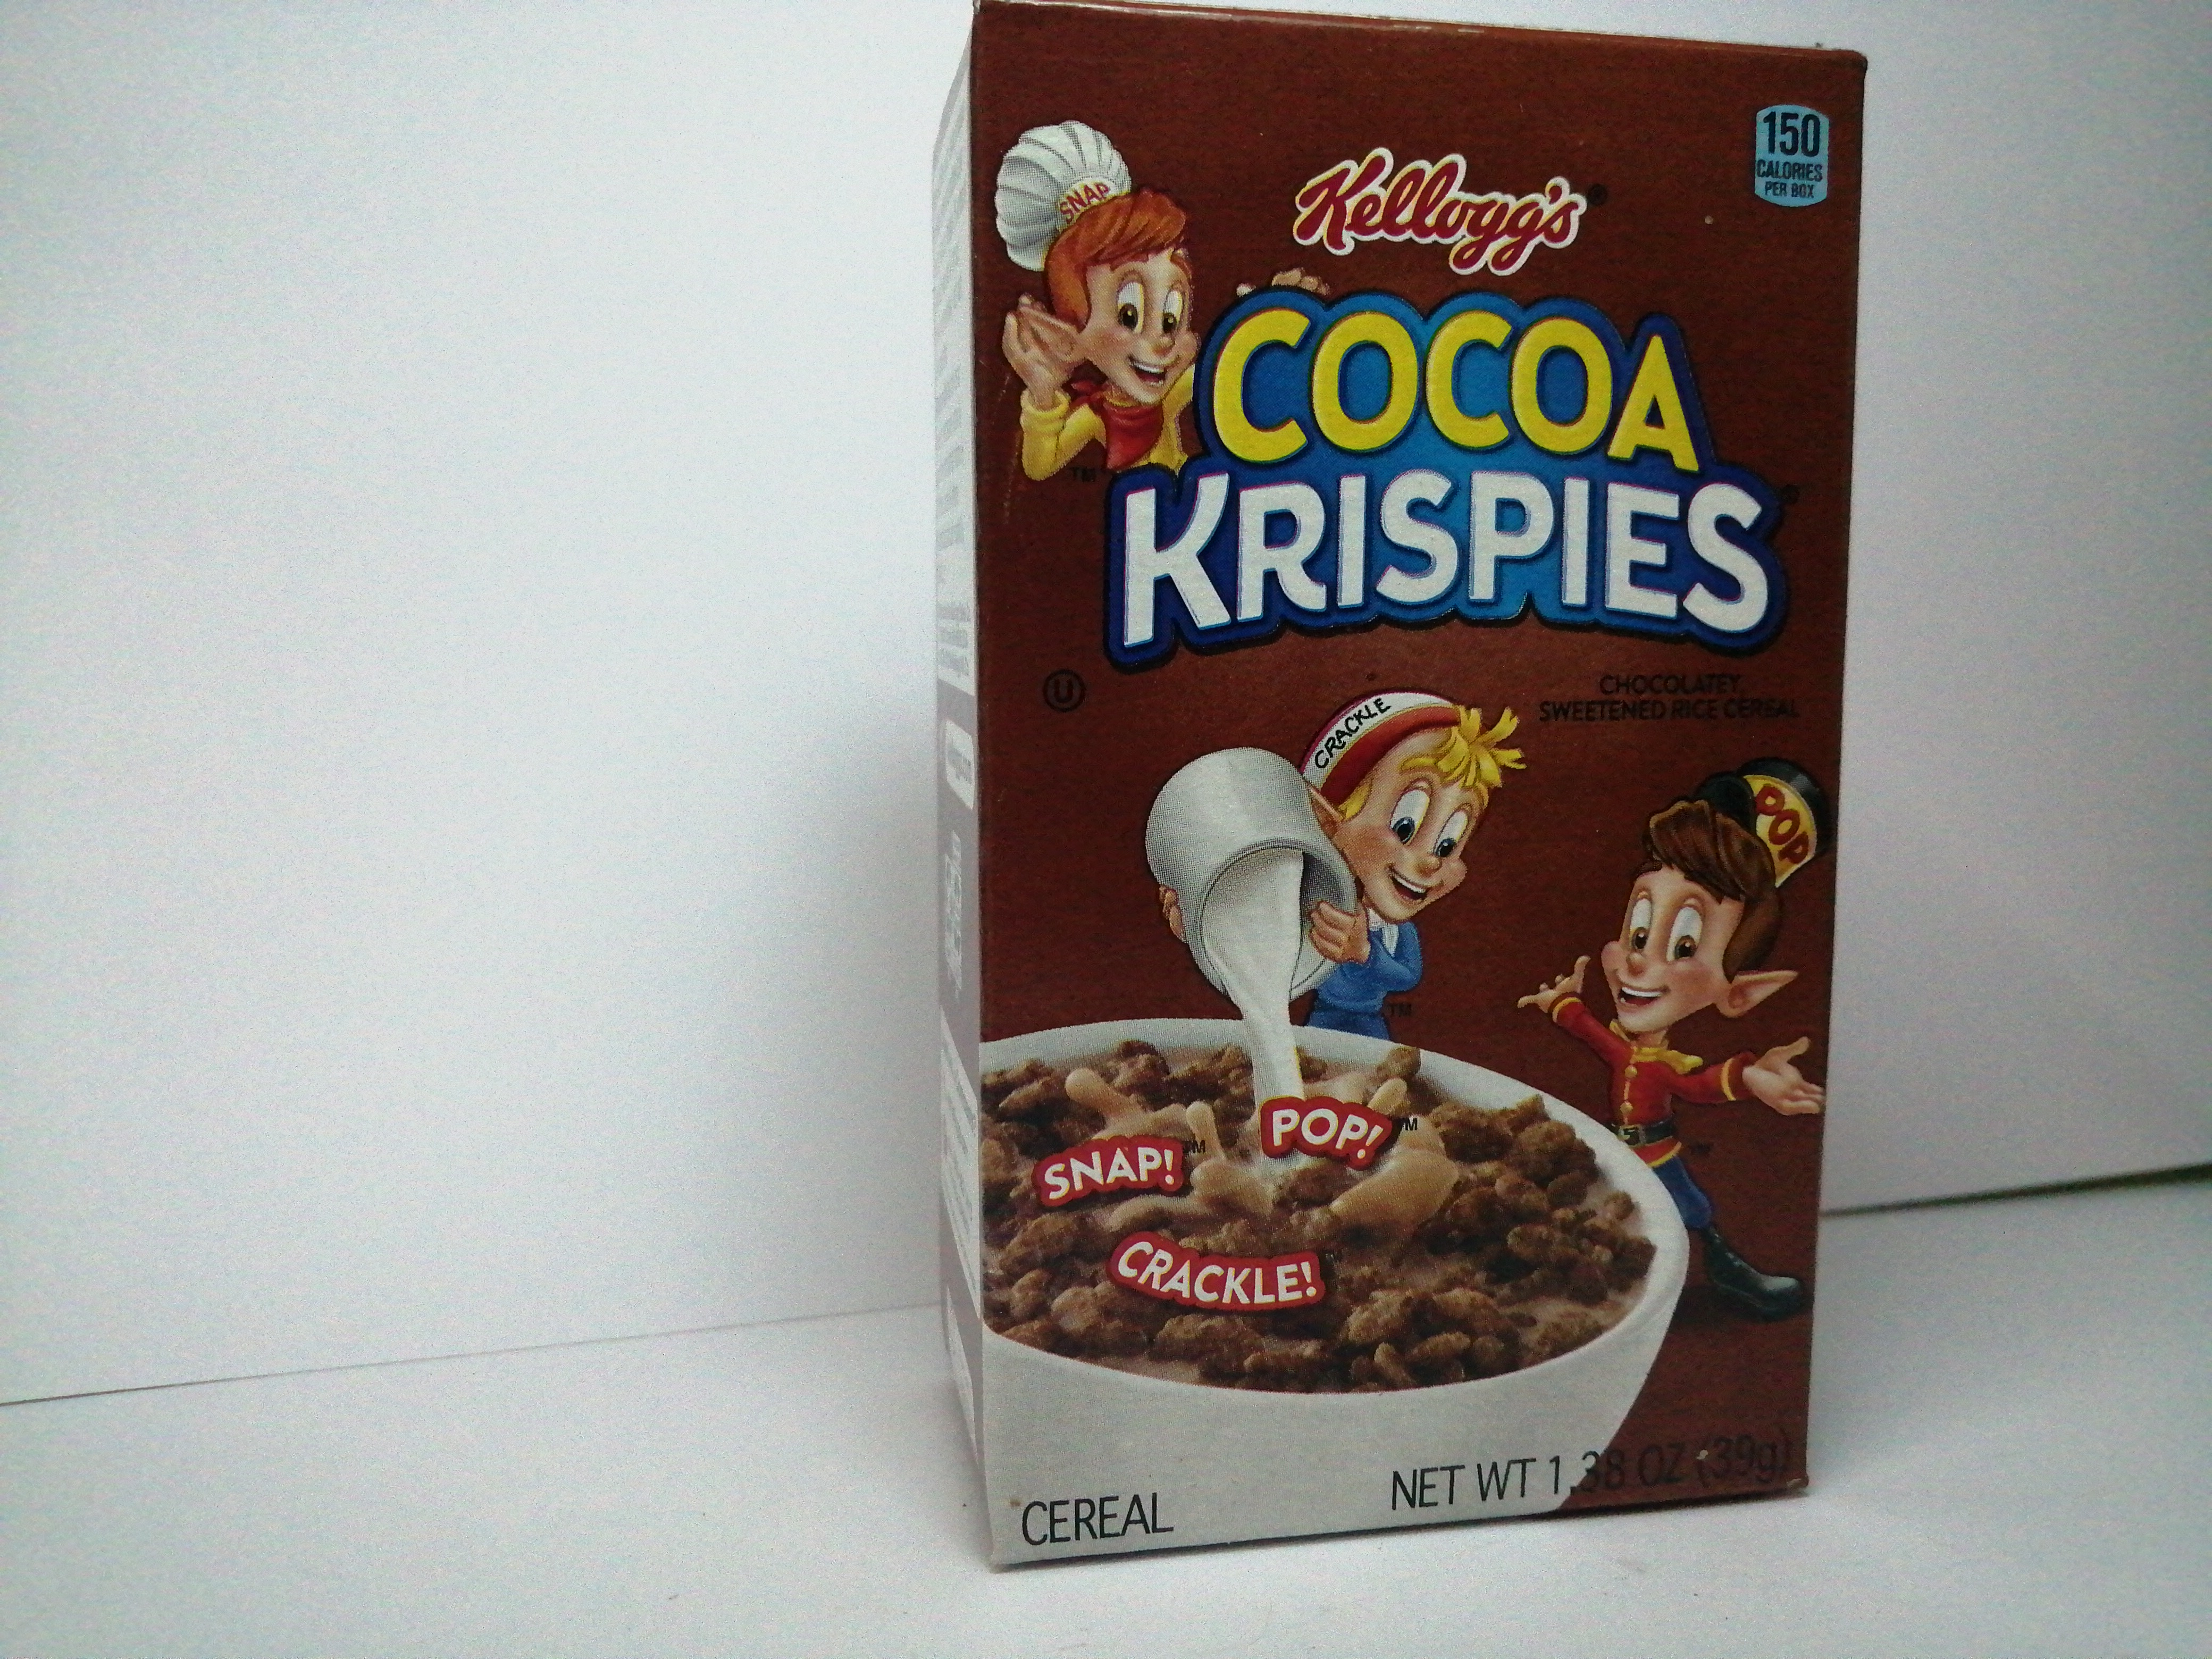cereal chocolate: (899, 0, 1898, 1568)
